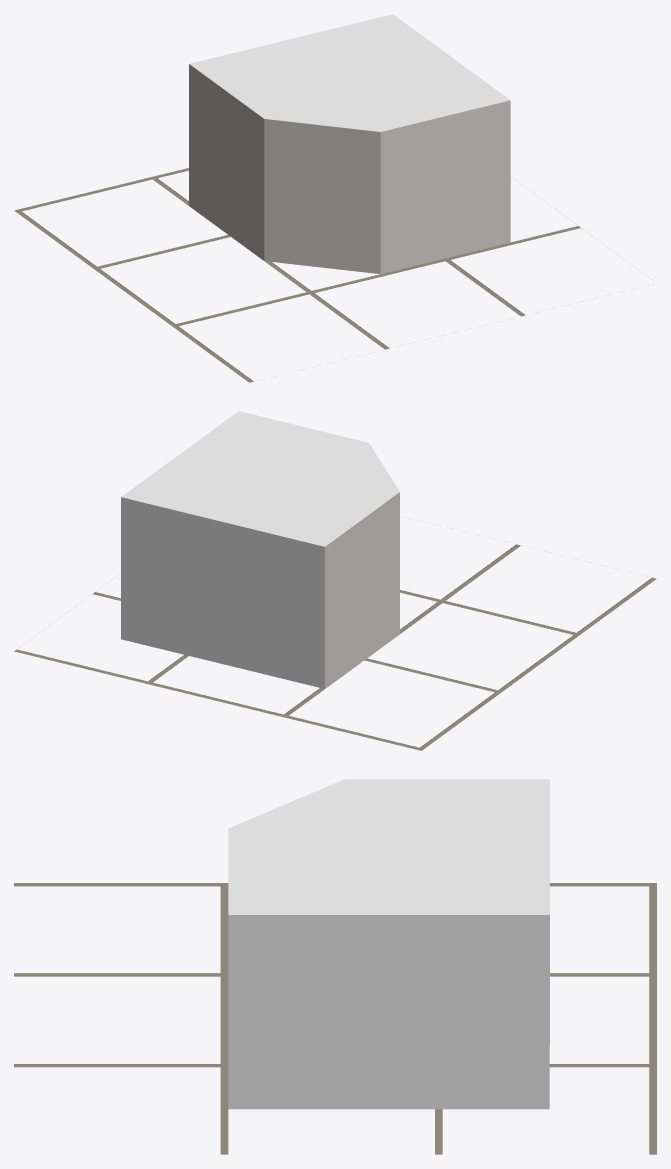
The model's file is Basic_Curve_Outer_2x2_Narrow_Mid.glb.
3 views of the same model, one above another, from view 1: azimuth 30°, elevation 25°; view 2: azimuth 150°, elevation 25°; view 3: azimuth 270°, elevation 25° (orthographic). The views are drawn at different scales.
Visible parts, largest first — view 1: Basic_Curve_Outer_2x2_Narrow_Mid, Floor; view 2: Basic_Curve_Outer_2x2_Narrow_Mid, Floor; view 3: Basic_Curve_Outer_2x2_Narrow_Mid, Floor.
Part boxes in pixels (x1=…): Basic_Curve_Outer_2x2_Narrow_Mid: x1=189, y1=14, x2=510, y2=274; Floor: x1=14, y1=168, x2=580, y2=382; Basic_Curve_Outer_2x2_Narrow_Mid: x1=121, y1=411, x2=399, y2=688; Floor: x1=14, y1=544, x2=656, y2=750; Basic_Curve_Outer_2x2_Narrow_Mid: x1=228, y1=779, x2=549, y2=1109; Floor: x1=14, y1=883, x2=656, y2=1154.
Bounding box in the file's own units: 300 × 100 × 300.
3 materials, 1 textured.
